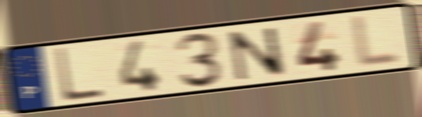3: (173, 31, 224, 90)
4: (118, 38, 164, 94), (295, 19, 342, 73)
L: (53, 45, 107, 104), (350, 13, 404, 71)
N: (225, 25, 290, 83)
